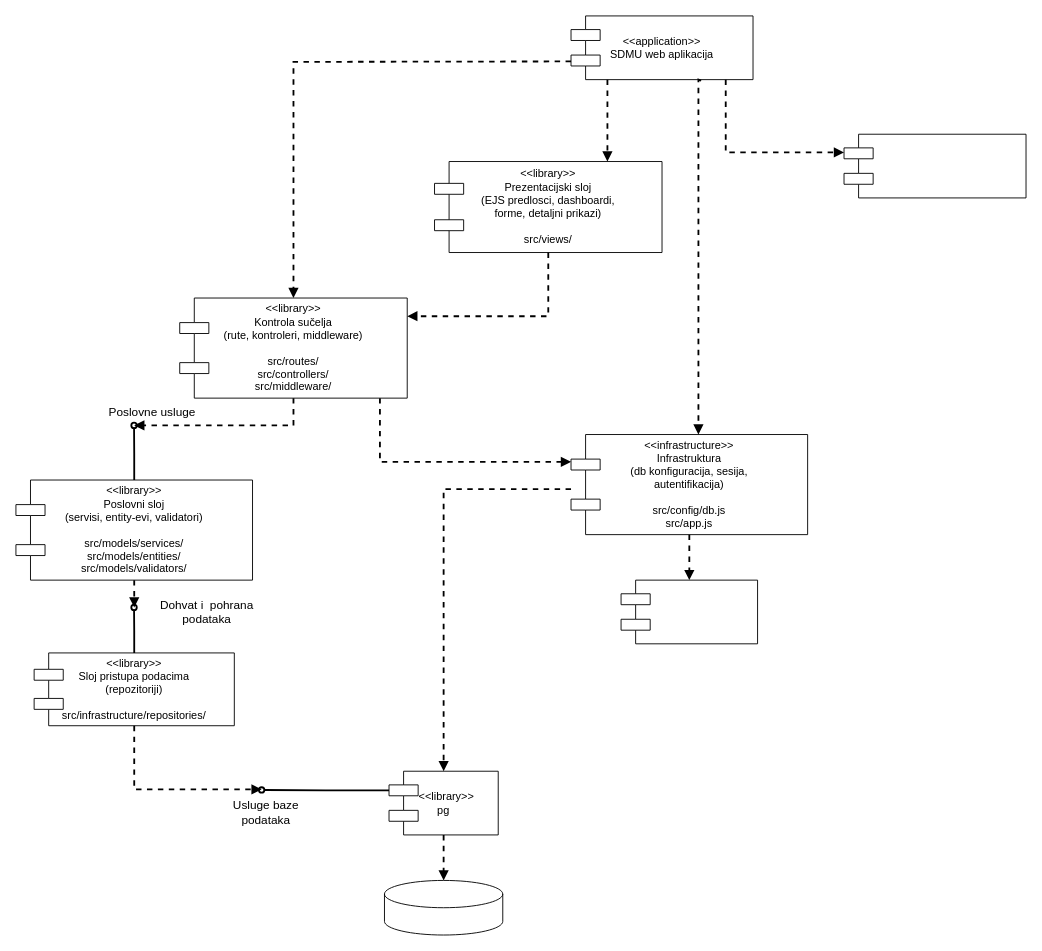
Image size: 1042x951. Some labels were removed from this diagram. Here are the shapes that lost their labels. From the top down, the box of each, then its label:
(843, 133, 1026, 198): <<framework>> Express + EJS
(620, 579, 758, 644): <<library>> express-session
(384, 880, 503, 935): <<datastore>> PostgreSQL
